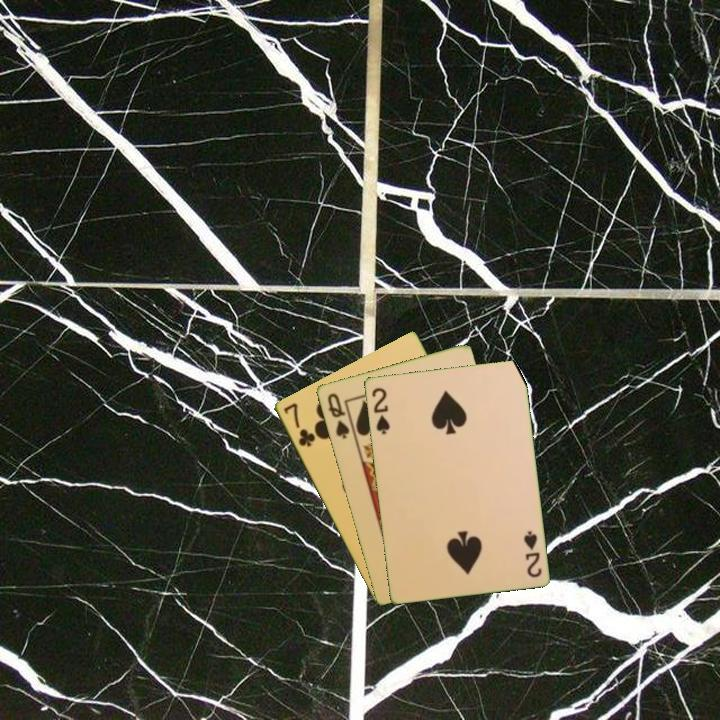2s: (368, 384, 392, 437), (520, 527, 544, 580)
7c: (279, 399, 318, 450)
Qs: (324, 389, 352, 442)
